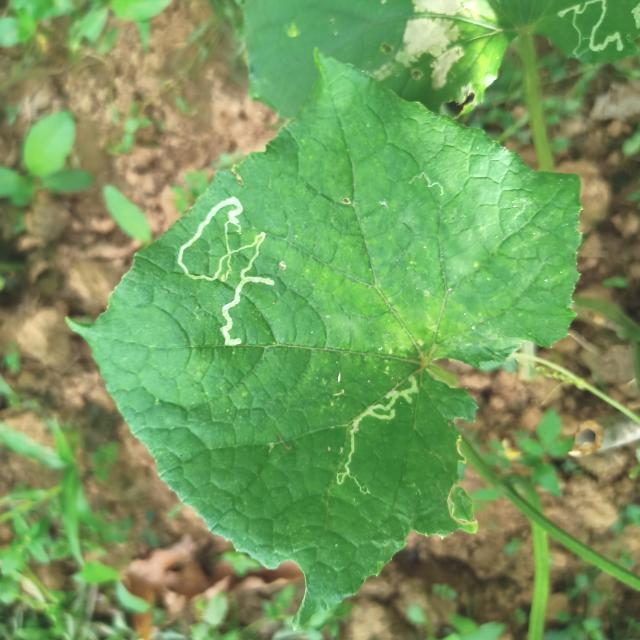disease_cucumber: (368, 2, 492, 92)
